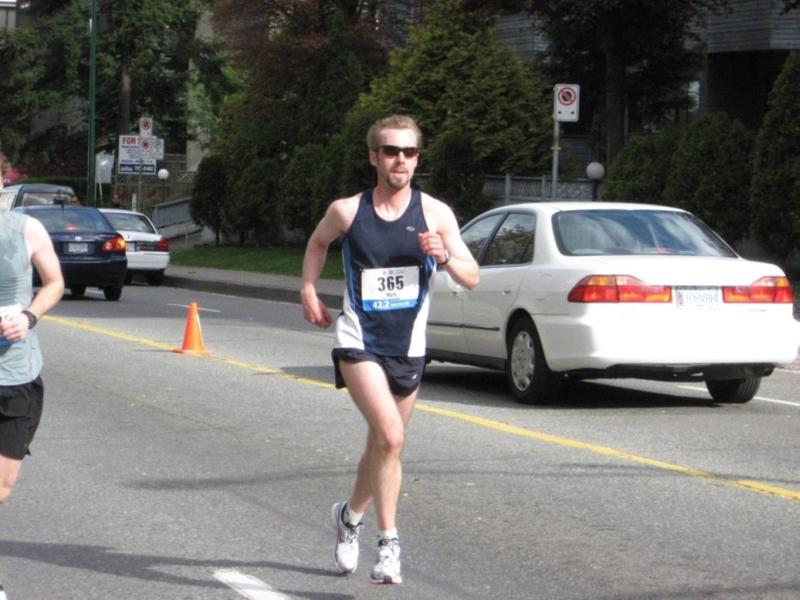person: (297, 114, 482, 586)
